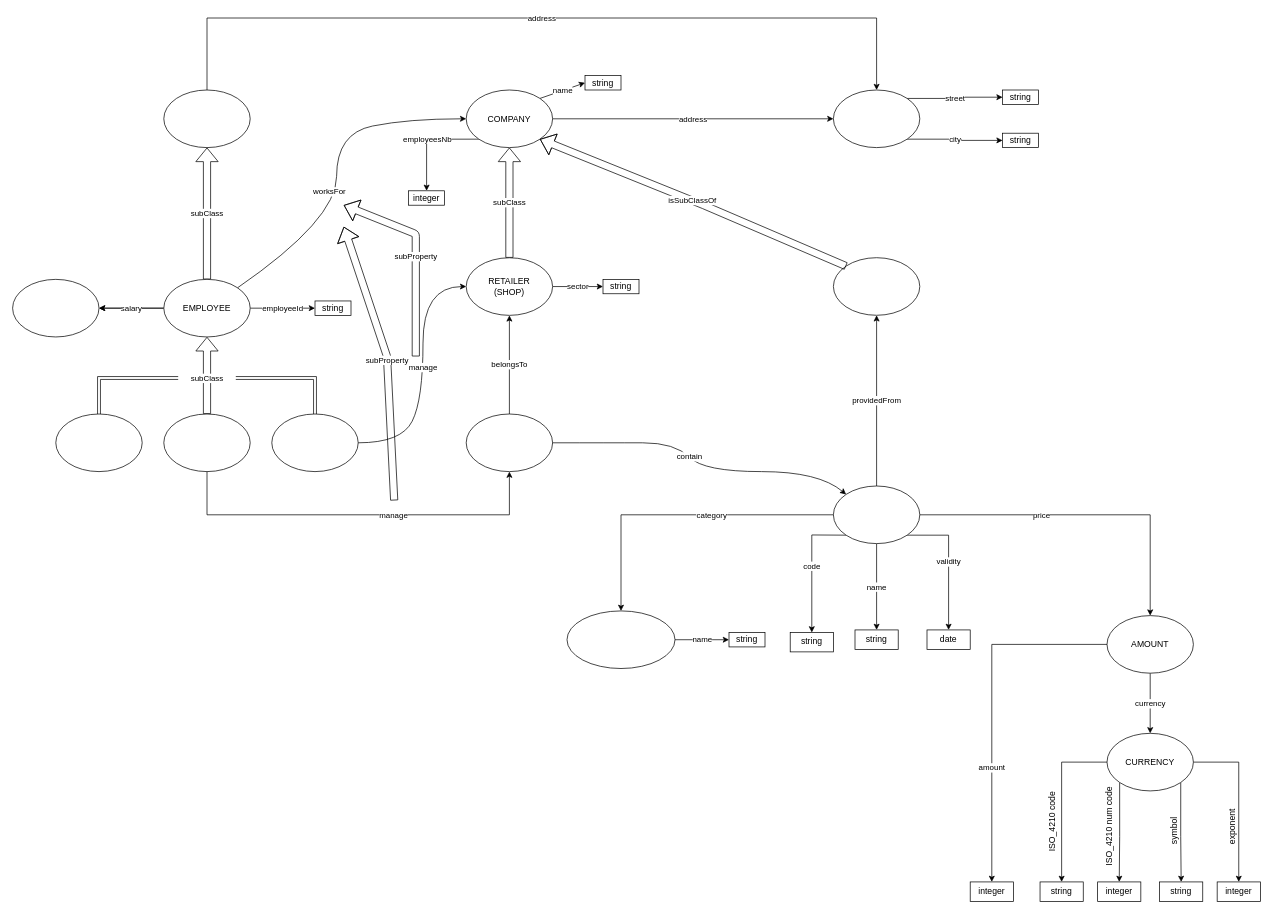
This 1273x914 diagram has some shape labels left out. The centre of each missing label's shape, as x and y in pixels:
*AMOUNT: the point at 55,308
DIRECTOR: the point at 314,442
DISTRIBUTOR: the point at 876,286
foaf:PERSON: the point at 206,118
LOCATION: the point at 876,118
PRODUCT: the point at 876,514
PRODUCT_CATEGORY: the point at 620,639
SECTION: the point at 509,442
SECTION_CHIEF: the point at 206,442
WORKER: the point at 98,442
